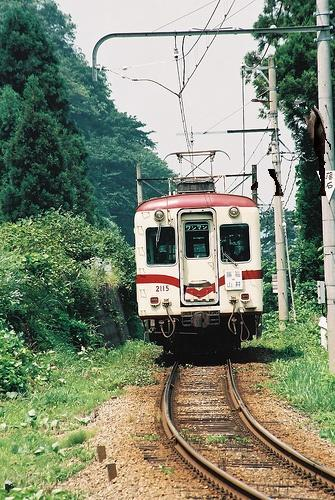tampered: (252, 100, 331, 196)
